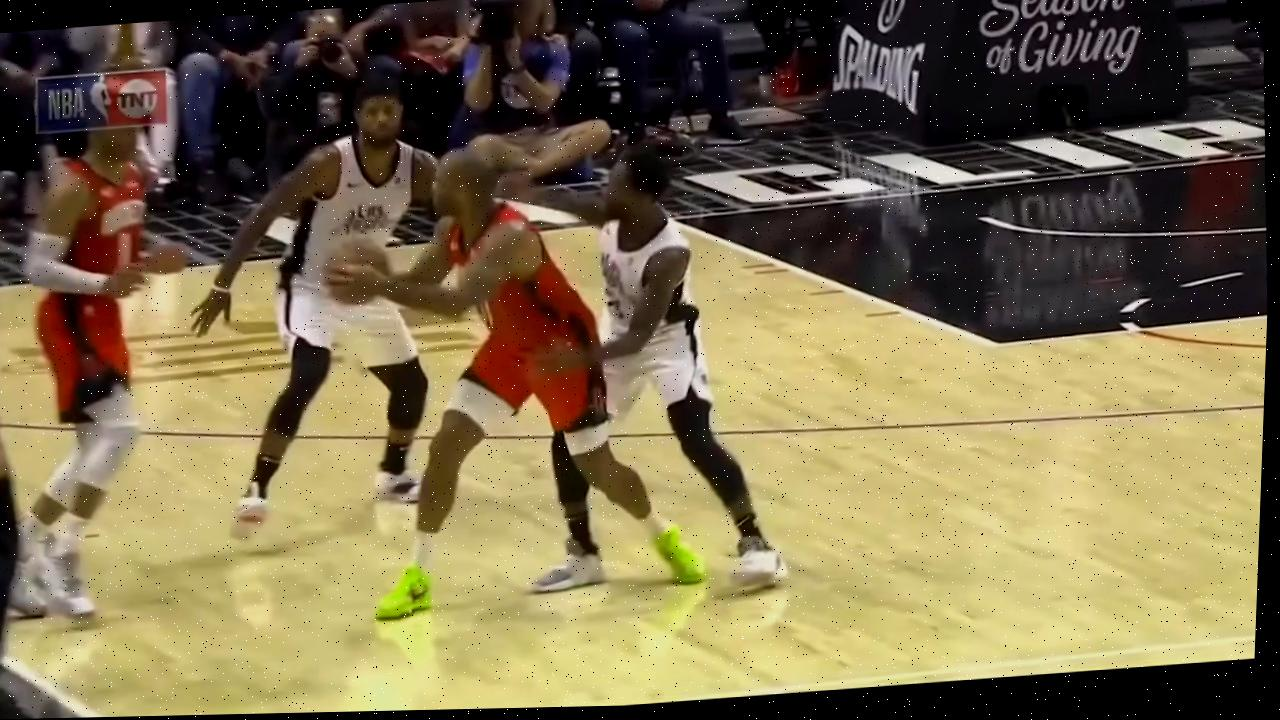foul: (348, 122, 818, 634)
